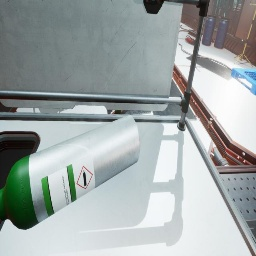0: (0, 115, 140, 230), (110, 110, 124, 114)
FireExtinguisher ]: (185, 35, 195, 46)
